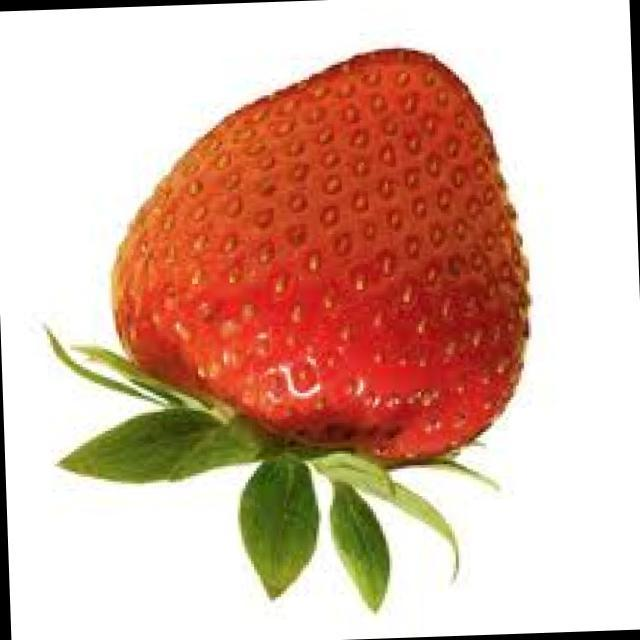Strawberry: (22, 25, 590, 636)
